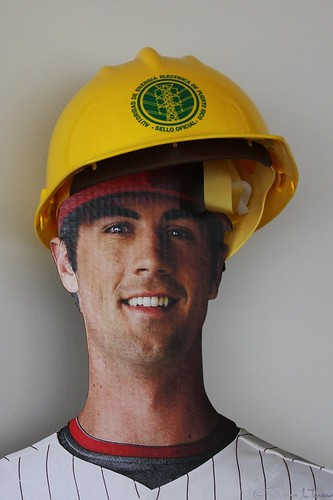person hardhat: (21, 52, 333, 500)
